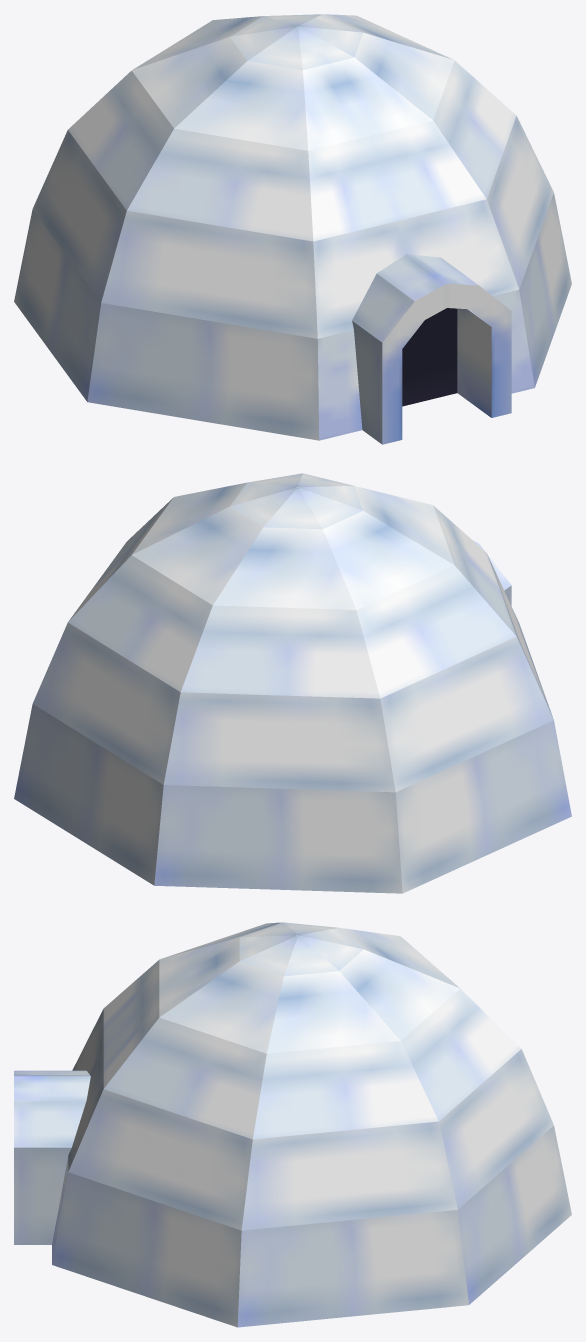
Rendered from Poly_World_Map_Igloo_01.obj.
The picture shows the model from 3 angles, top to bottom: view 1: azimuth 30°, elevation 25°; view 2: azimuth 150°, elevation 25°; view 3: azimuth 270°, elevation 25°; orthographic projection. The views are drawn at different scales.
Visible parts, largest first — view 1: Grid.006, Grid.001; view 2: Grid.006; view 3: Grid.006, Grid.001.
Boxes of the visible parts, bbox=[...] form: Grid.006: bbox=[14, 14, 571, 440]; Grid.001: bbox=[352, 254, 511, 444]; Grid.006: bbox=[14, 473, 571, 893]; Grid.006: bbox=[52, 922, 571, 1327]; Grid.001: bbox=[14, 1070, 90, 1244].
Bounding box in the file's own units: 0.7497 × 0.4331 × 0.7845.
1 material, 1 textured.
